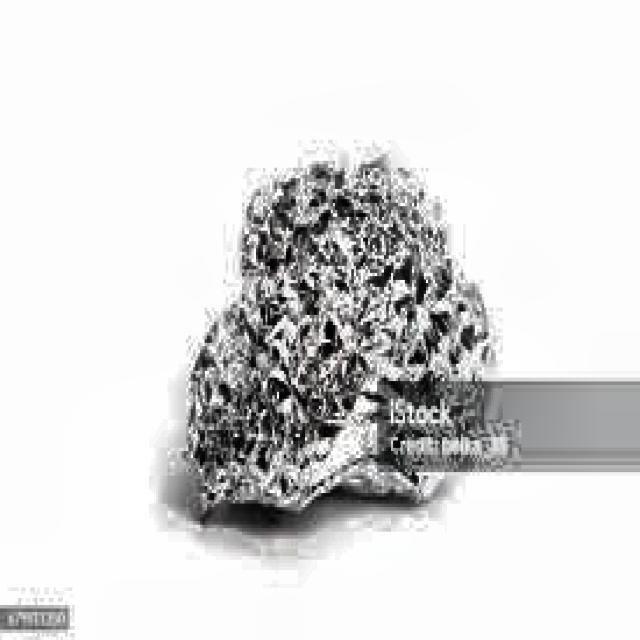Foil: (177, 142, 504, 532)
